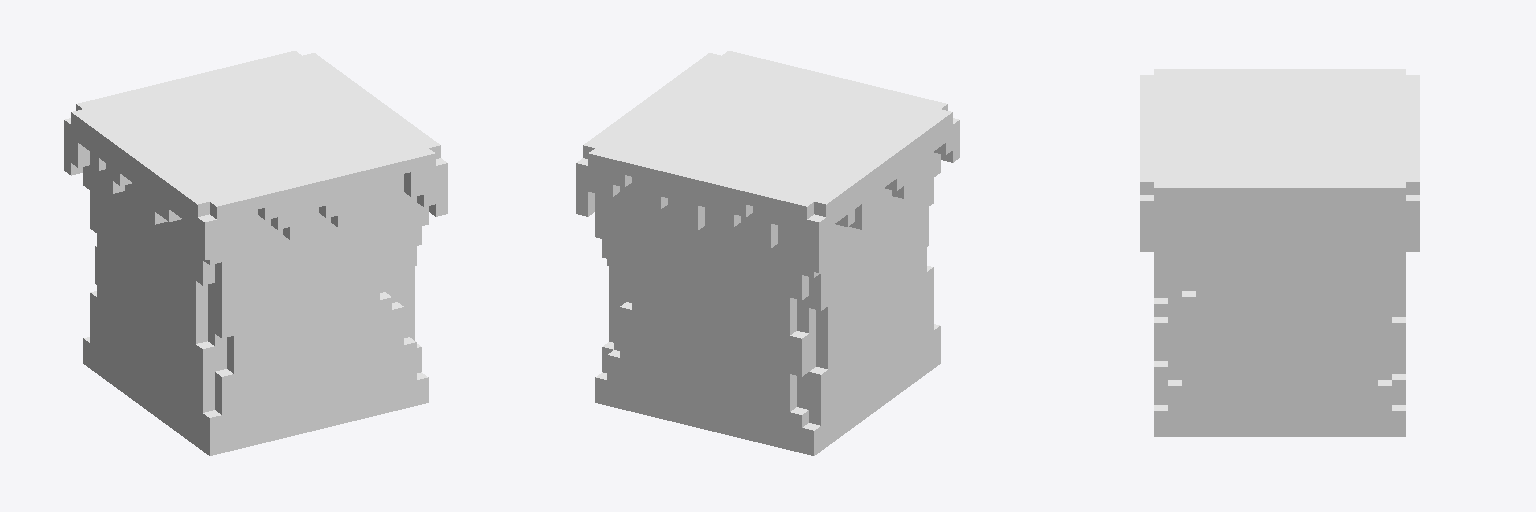
File: terrain_20_20_20.obj
The picture shows the model from 3 angles: view 1: azimuth 30°, elevation 25°; view 2: azimuth 150°, elevation 25°; view 3: azimuth 270°, elevation 25°; orthographic projection.
Visible parts, largest first — view 1: object 1; view 2: object 1; view 3: object 1.
Boxes of the visible parts, x1=… form: object 1: x1=64, y1=51, x2=447, y2=455; object 1: x1=576, y1=51, x2=959, y2=455; object 1: x1=1140, y1=69, x2=1419, y2=436.
Size of the model in its own units: 2 by 2 by 2.